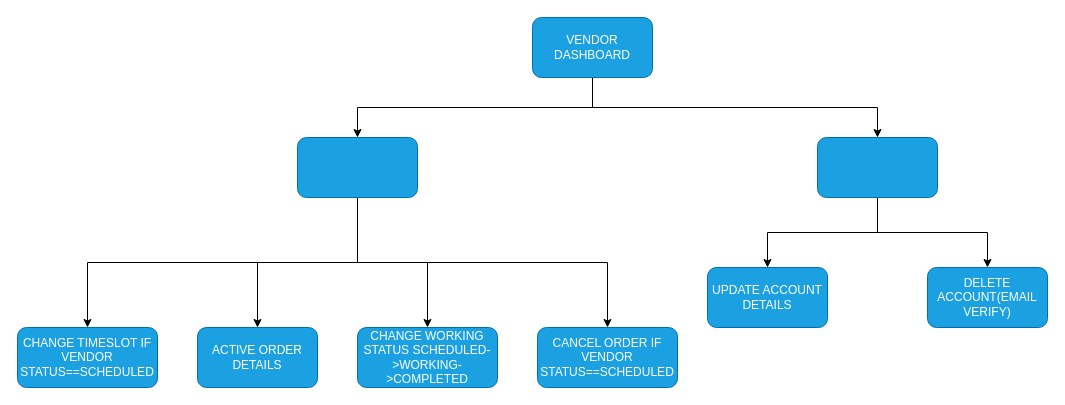
Image size: 1065x405. Some labels were removed from this diagram. Here are the shapes that lost their labels. From the top down, the centre of each, then its label:
At (357,167): "ACTIVE ORDERS".
At (877,167): "ACCOUNT DETAILS".
